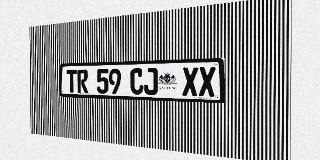5: (97, 69, 108, 94)
9: (109, 69, 121, 94)
C: (130, 68, 143, 95)
J: (144, 68, 158, 95)
R: (77, 69, 88, 93)
T: (66, 70, 77, 93)
X: (199, 67, 215, 97), (182, 67, 198, 96)
